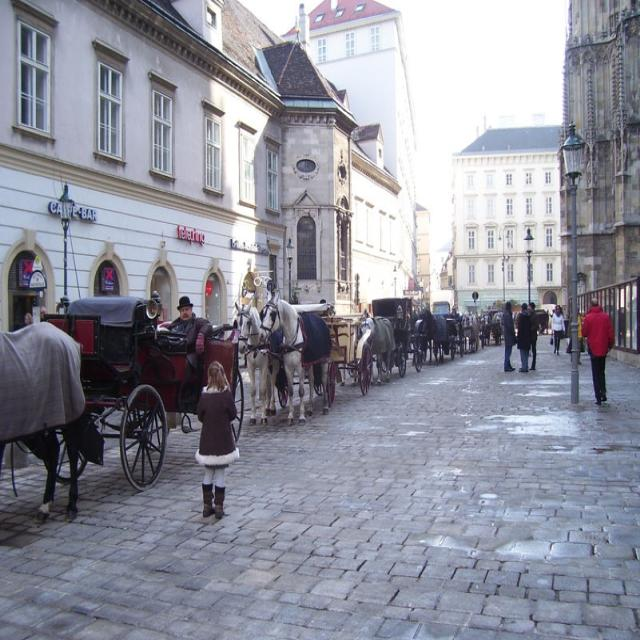body: (193, 358, 241, 520), (166, 296, 214, 387), (580, 296, 616, 406), (515, 301, 532, 373), (500, 300, 517, 372), (527, 301, 541, 371), (550, 303, 567, 356), (605, 303, 627, 341), (577, 307, 583, 366), (545, 306, 555, 334), (411, 298, 426, 316), (23, 310, 34, 326), (40, 307, 49, 323)
